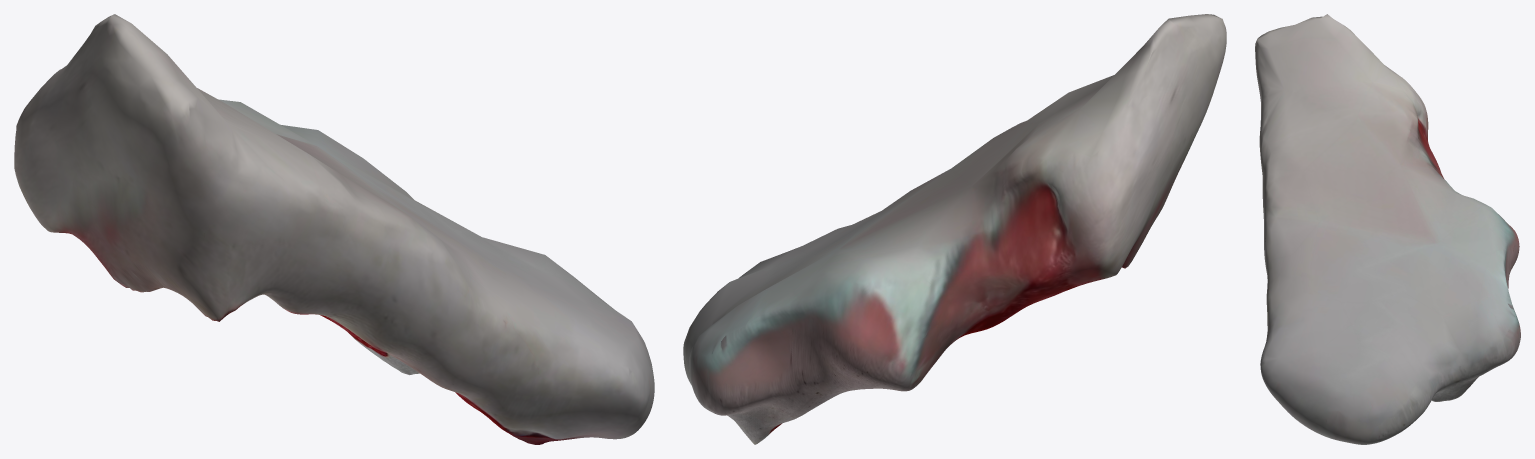
3 views of the same model, side by side, from view 1: azimuth 30°, elevation 25°; view 2: azimuth 150°, elevation 25°; view 3: azimuth 270°, elevation 25° (orthographic). The views are drawn at different scales.
Bounding box in the file's own units: 0.2542 × 0.2406 × 0.192.
1 material, 1 textured.
